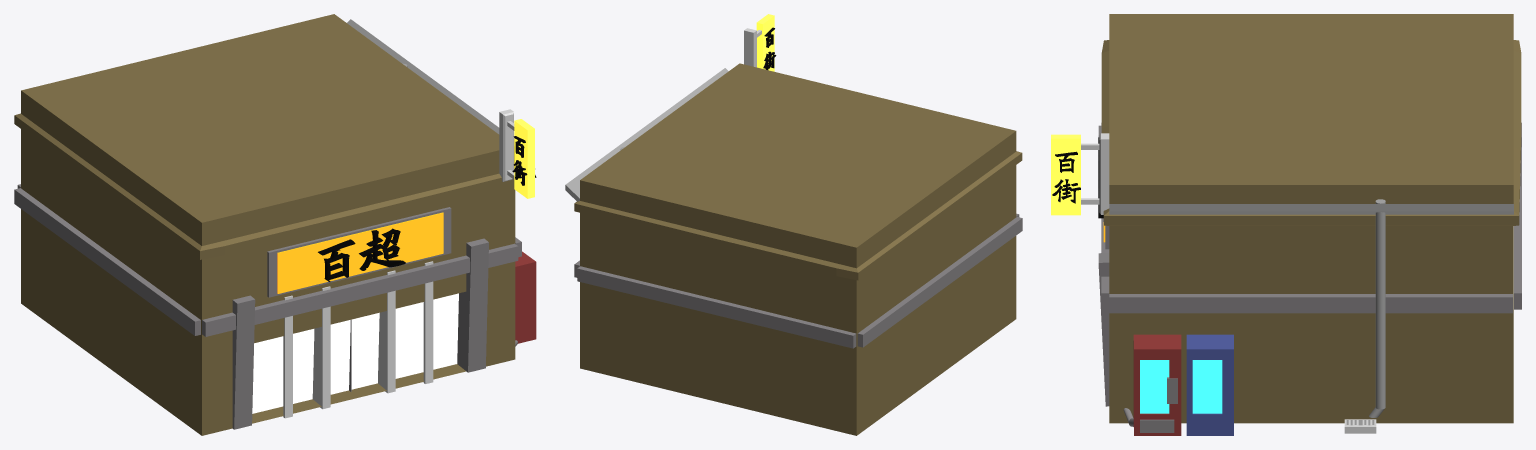
The picture shows the model from 3 angles, left to right: view 1: azimuth 30°, elevation 25°; view 2: azimuth 150°, elevation 25°; view 3: azimuth 270°, elevation 25°; orthographic projection. The views are drawn at different scales.
Parts seen in each view (by area): view 1: Cube, Cube.004, Cube.027, Cube.006, Cube.011, Cube.020, Cube.005, Cube.026, Cube.017, Text, Cube.024, Cube.023 (+5 smaller); view 2: Cube, Cube.009, Cube.011, Cube.002, Cube.015, Cube.012; view 3: Cube, Cube.010, Cube.002, Cube.007, Cube.017, Cylinder.001, Cube.015, Cube.008, Cube.016, Cube.020, Cube.009, Cube.012 (+4 smaller).
Boxes of the visible parts, x1,y1,x2,y2 form: Cube: (14, 14, 515, 435); Cube.004: (252, 293, 458, 413); Cube.027: (277, 212, 443, 293); Cube.006: (202, 243, 518, 336); Cube.011: (14, 188, 200, 335); Cube.020: (457, 238, 488, 372); Cube.005: (232, 295, 255, 429); Cube.026: (267, 207, 451, 297); Cube.017: (515, 251, 536, 343); Text: (318, 228, 405, 281); Cube.024: (312, 286, 330, 409); Cube.023: (378, 270, 395, 393); Cube: (574, 63, 1022, 435); Cube.009: (577, 266, 856, 348); Cube.011: (857, 217, 1022, 347); Cube.002: (565, 68, 728, 201); Cube.015: (756, 14, 774, 71); Cube.012: (744, 28, 756, 67); Cube: (1101, 14, 1521, 423); Cube.010: (1109, 294, 1512, 313); Cube.002: (1109, 204, 1513, 214); Cube.007: (1186, 334, 1233, 435); Cube.017: (1133, 334, 1181, 435); Cylinder.001: (1369, 199, 1385, 417); Cube.015: (1051, 134, 1080, 215); Cube.008: (1192, 360, 1222, 413); Cube.016: (1140, 360, 1169, 413); Cube.020: (1098, 253, 1109, 406); Cube.009: (1514, 122, 1521, 309); Cube.012: (1099, 133, 1109, 214).
Size of what is drawn, in the model's own units: 14.06 by 9.65 by 14.5.
